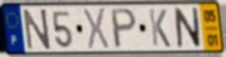5: (50, 9, 75, 49)
K: (147, 7, 172, 49)
N: (21, 7, 53, 52), (173, 7, 203, 50)
P: (110, 7, 139, 51)
X: (82, 7, 111, 51)
